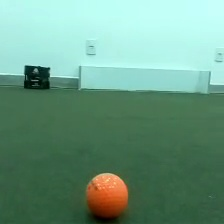ball: (83, 169, 130, 221)
goal: (75, 62, 212, 95)
robot: (22, 62, 51, 90)
